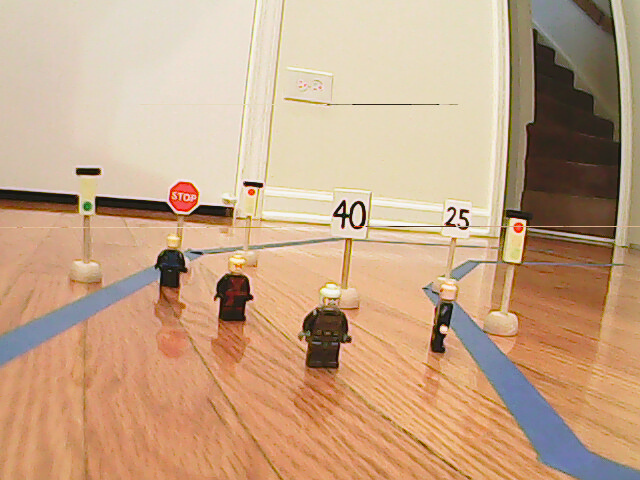Green Traffic Light: (75, 164, 101, 214)
Person: (298, 283, 353, 372), (211, 254, 256, 324), (427, 277, 459, 357), (156, 230, 189, 290)
Red Traffic Light: (502, 211, 527, 266), (239, 180, 263, 218)
Speed Limit 25: (439, 198, 472, 239)
Speed Limit 40: (331, 189, 369, 241)
Stop Sign: (167, 179, 201, 216)
